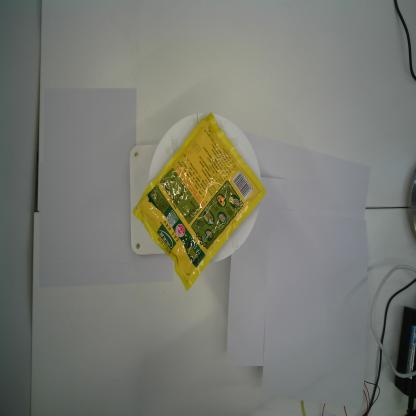Seasoner: (132, 110, 268, 292)
